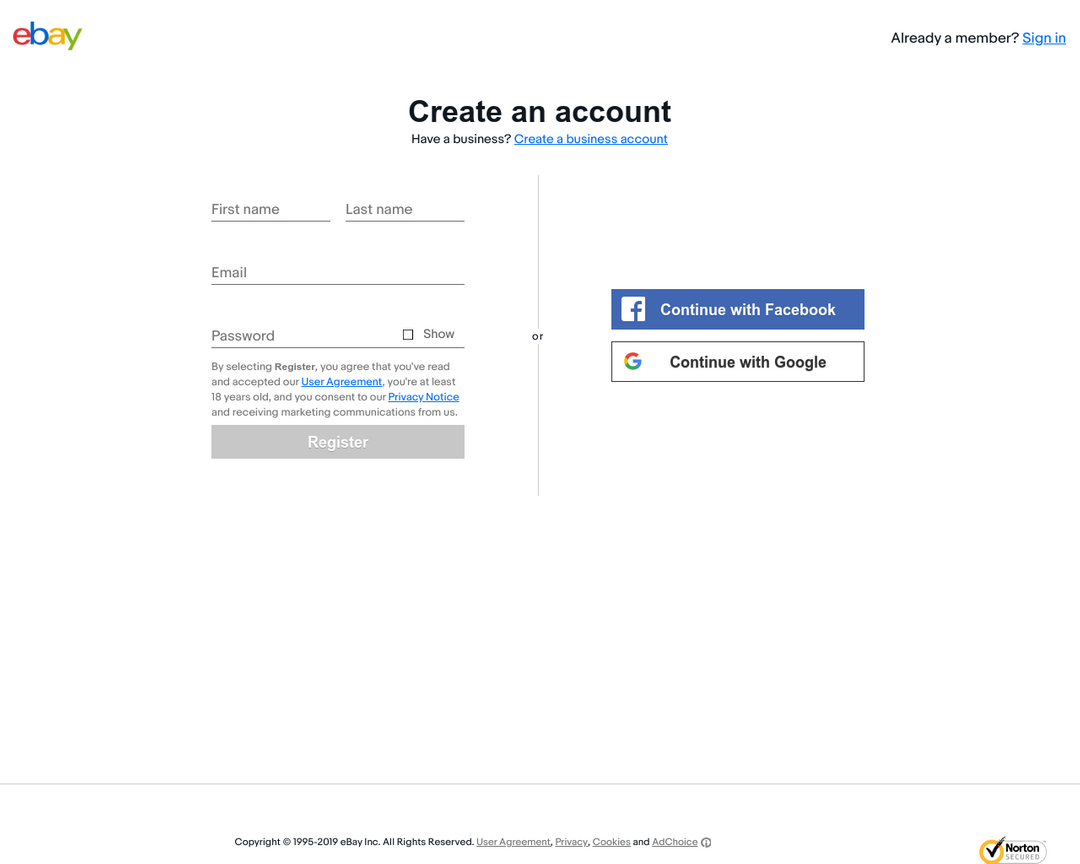Ebay: (7, 20, 87, 53)
Facebook: (615, 292, 654, 326)
Google: (619, 345, 653, 377)
